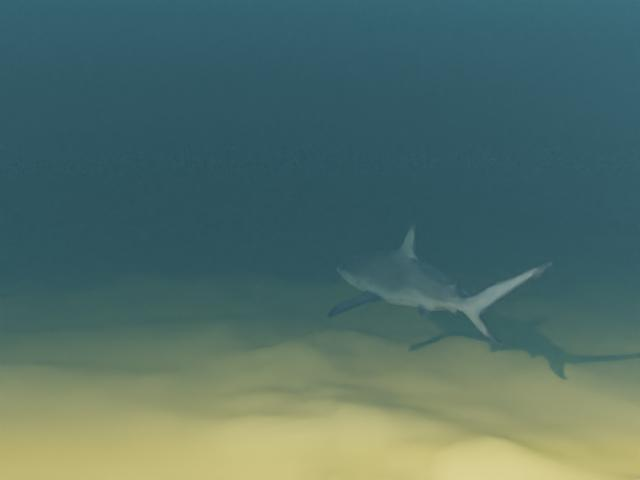Carribean Shark.001: (327, 222, 552, 345)
